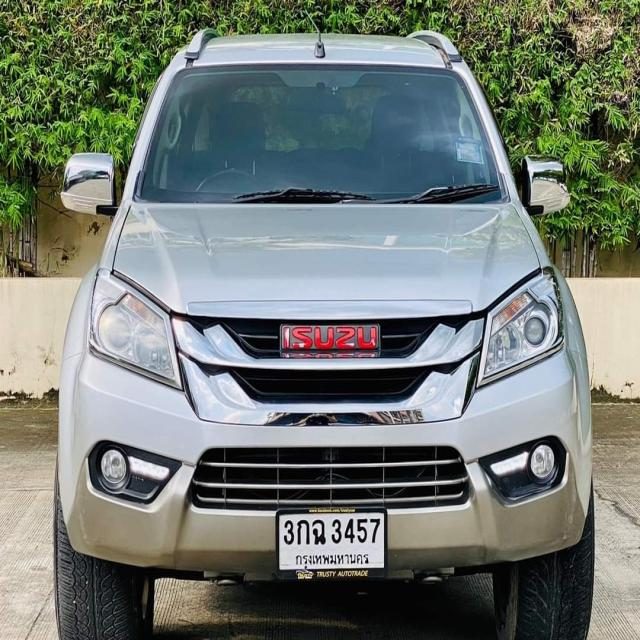license_plate: (274, 505, 389, 580)
